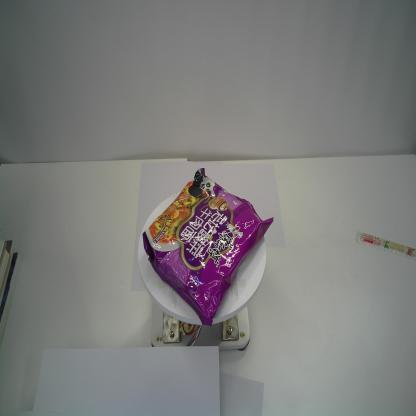Instant Noodles: (142, 167, 274, 327)
